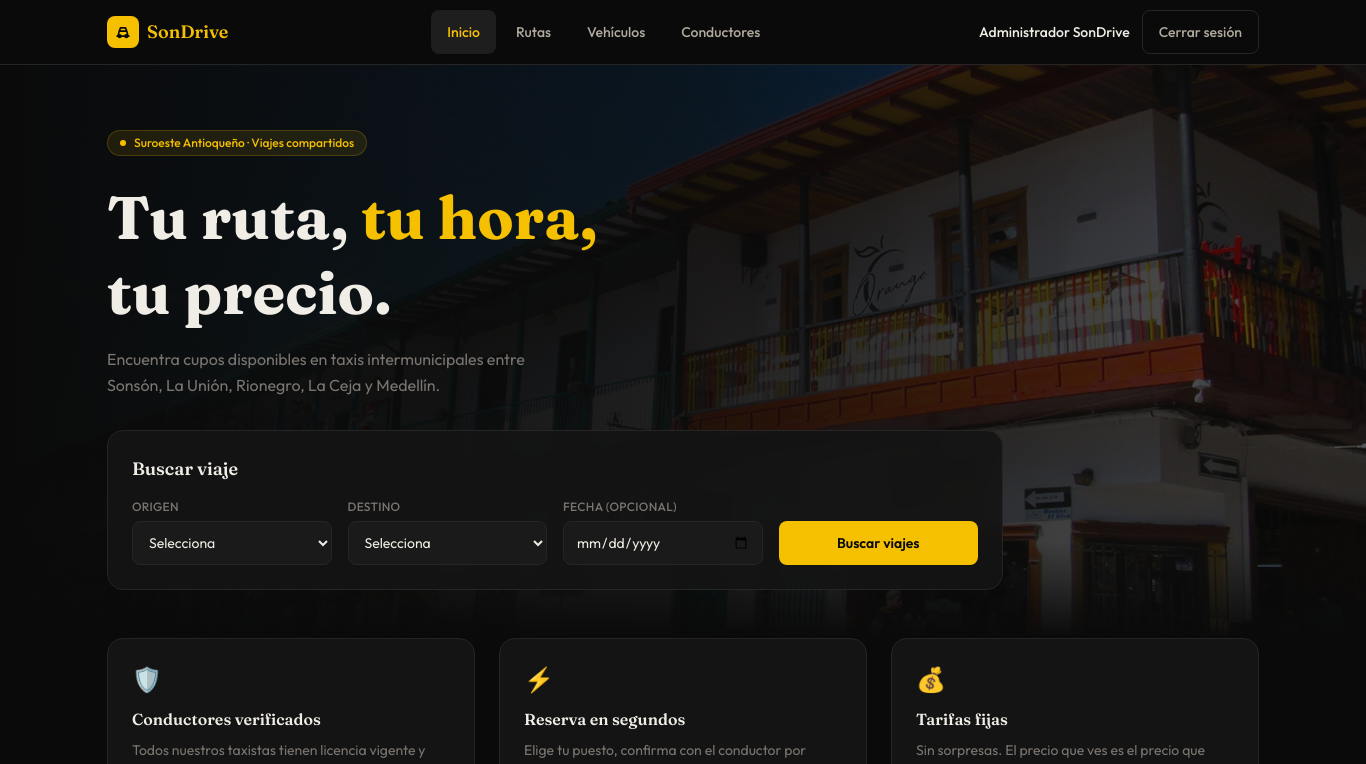
it: ProveedorSesion › Cerrar sesión borra la sesión, muestra Iniciar sesión y lleva al inicio
The width and height of the screenshot is (1366, 764).
What coordinates should you click on to do the following:
click the button "Cerrar sesión"
I would click on:
 (1200, 32)
Its box is [1142,10,1259,54].
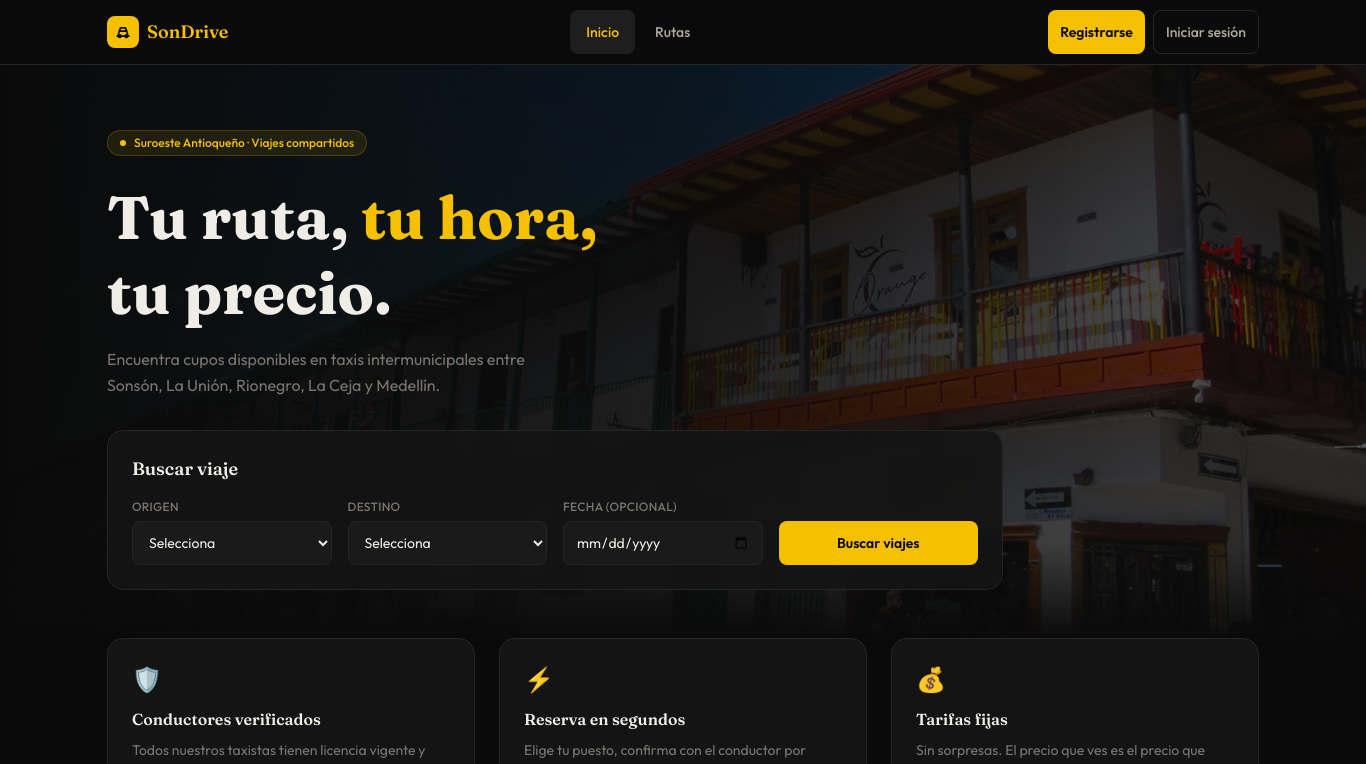
Expected: the link "Iniciar sesión" is shown, [1153,10,1259,54]
